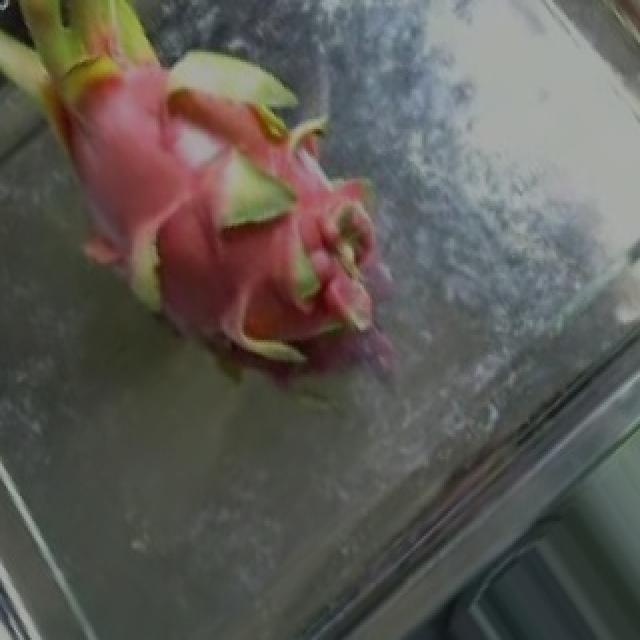fruit: (2, 0, 428, 427)
